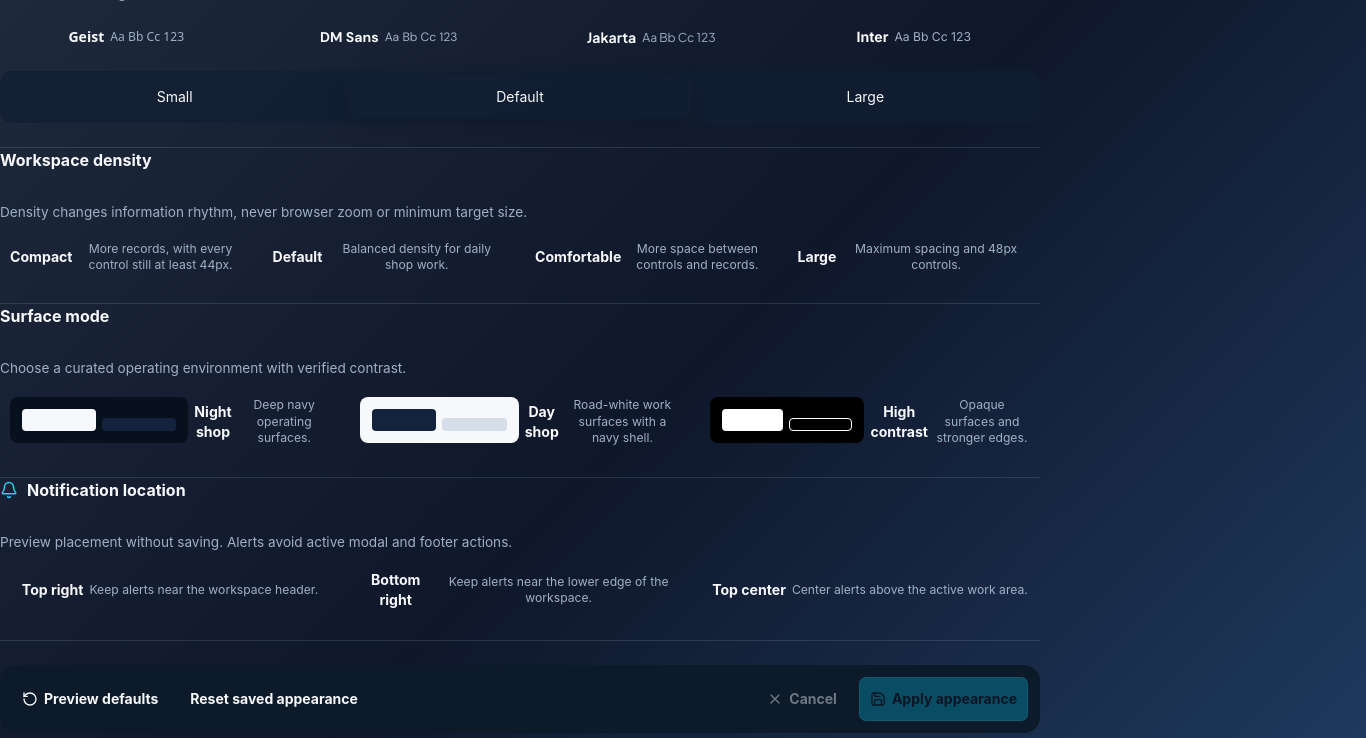
Test: renders a contrast-safe accent ramp for the selected operating surface
(page scrolled)
Click the button "Day shop Road-white work surfaces with a navy shell.". click: [520, 422]
box: [350, 391, 690, 453]
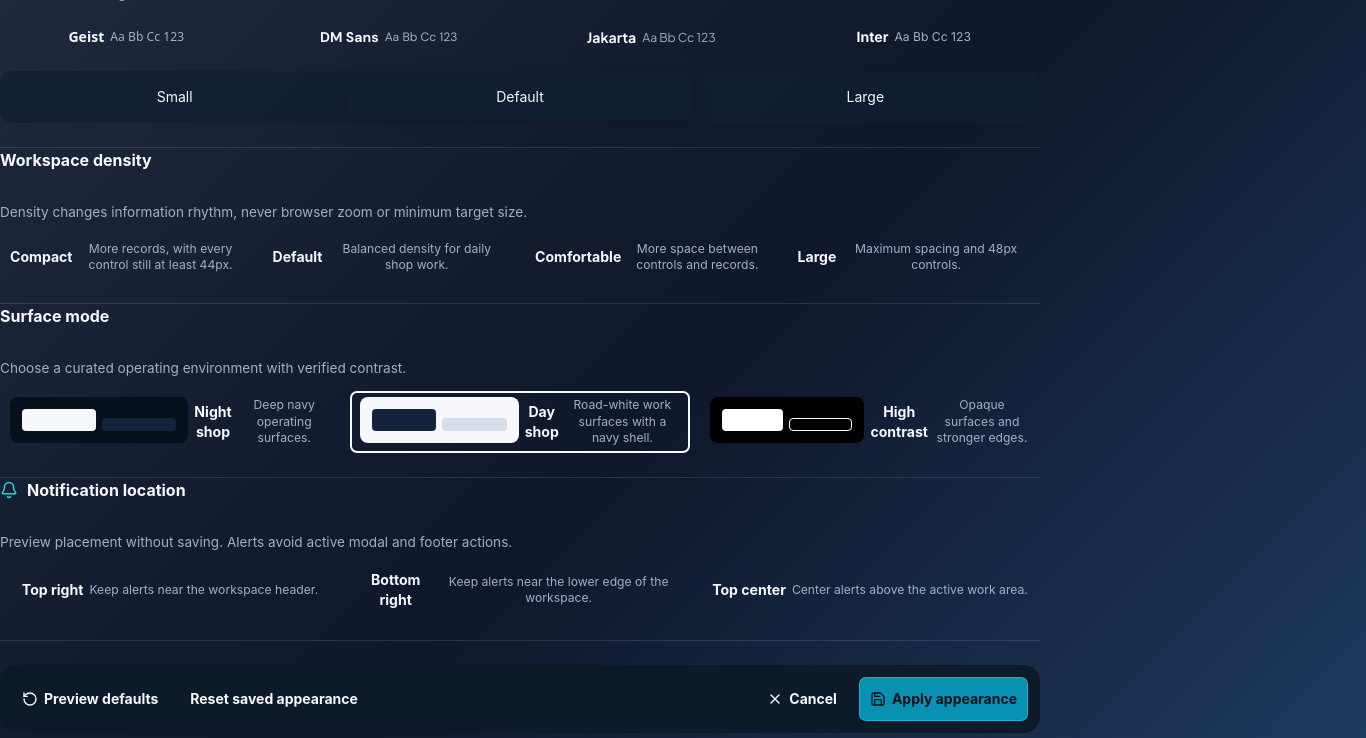
Click the button "High contrast Opaque surfaces and stronger edges.". click: [870, 422]
box: [700, 391, 1040, 453]
(page scrolled)
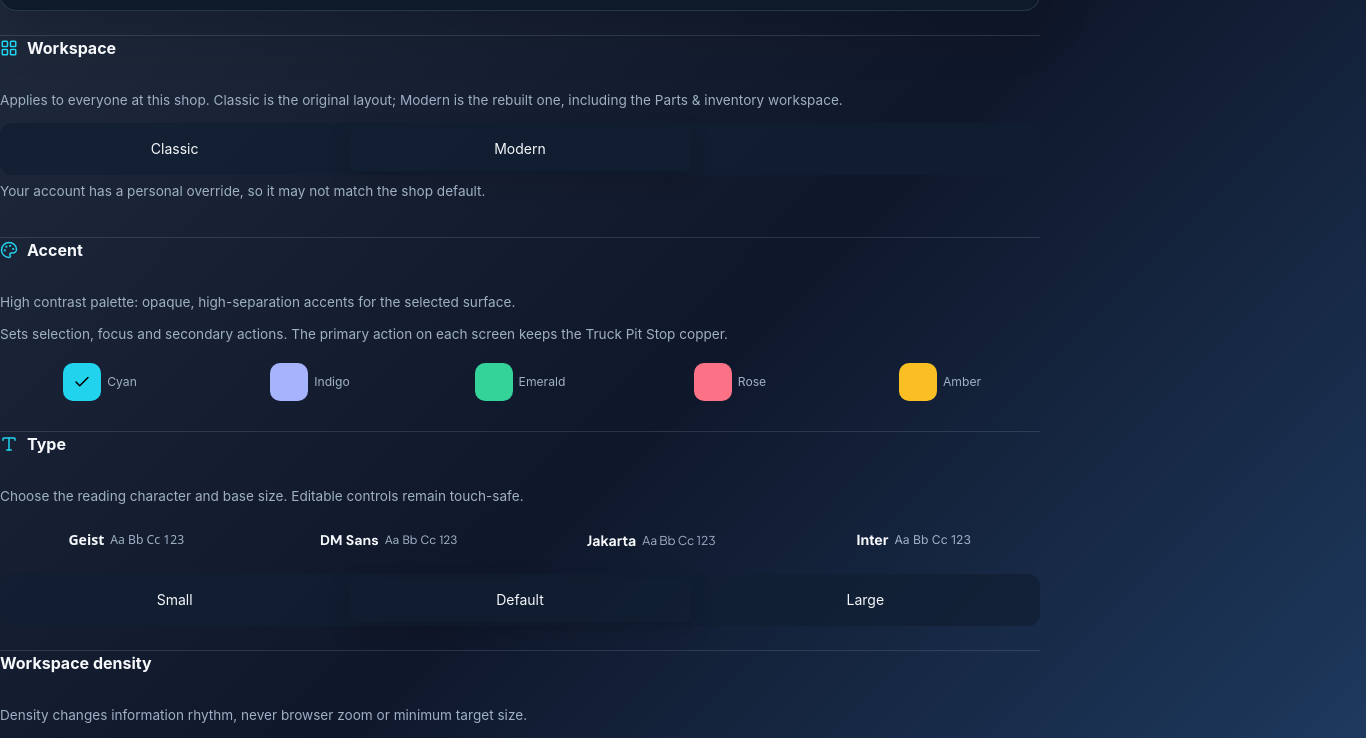
Expected: the text "High contrast palette: opaque, high-separation accents for the selected surface." is shown, [0, 294, 515, 310]
